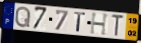7: (32, 6, 49, 31), (55, 9, 70, 32)
H: (90, 12, 111, 36)
Q: (13, 6, 31, 29)
T: (111, 14, 126, 38), (74, 11, 87, 33)
